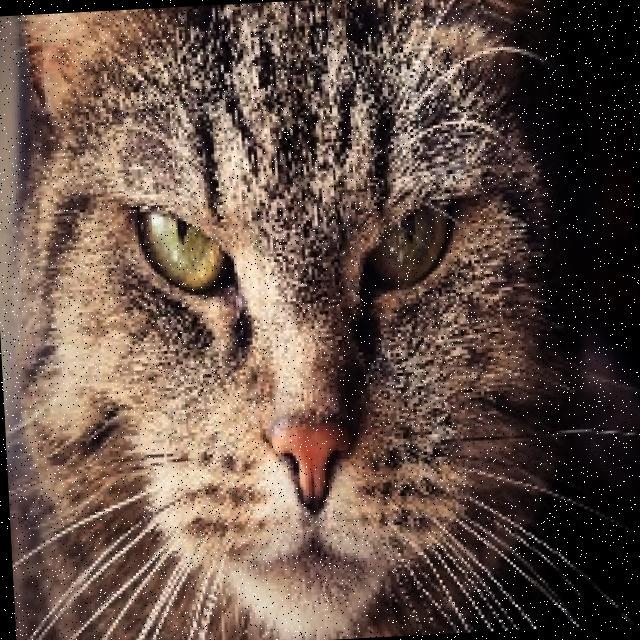Angry: (52, 136, 532, 626)
